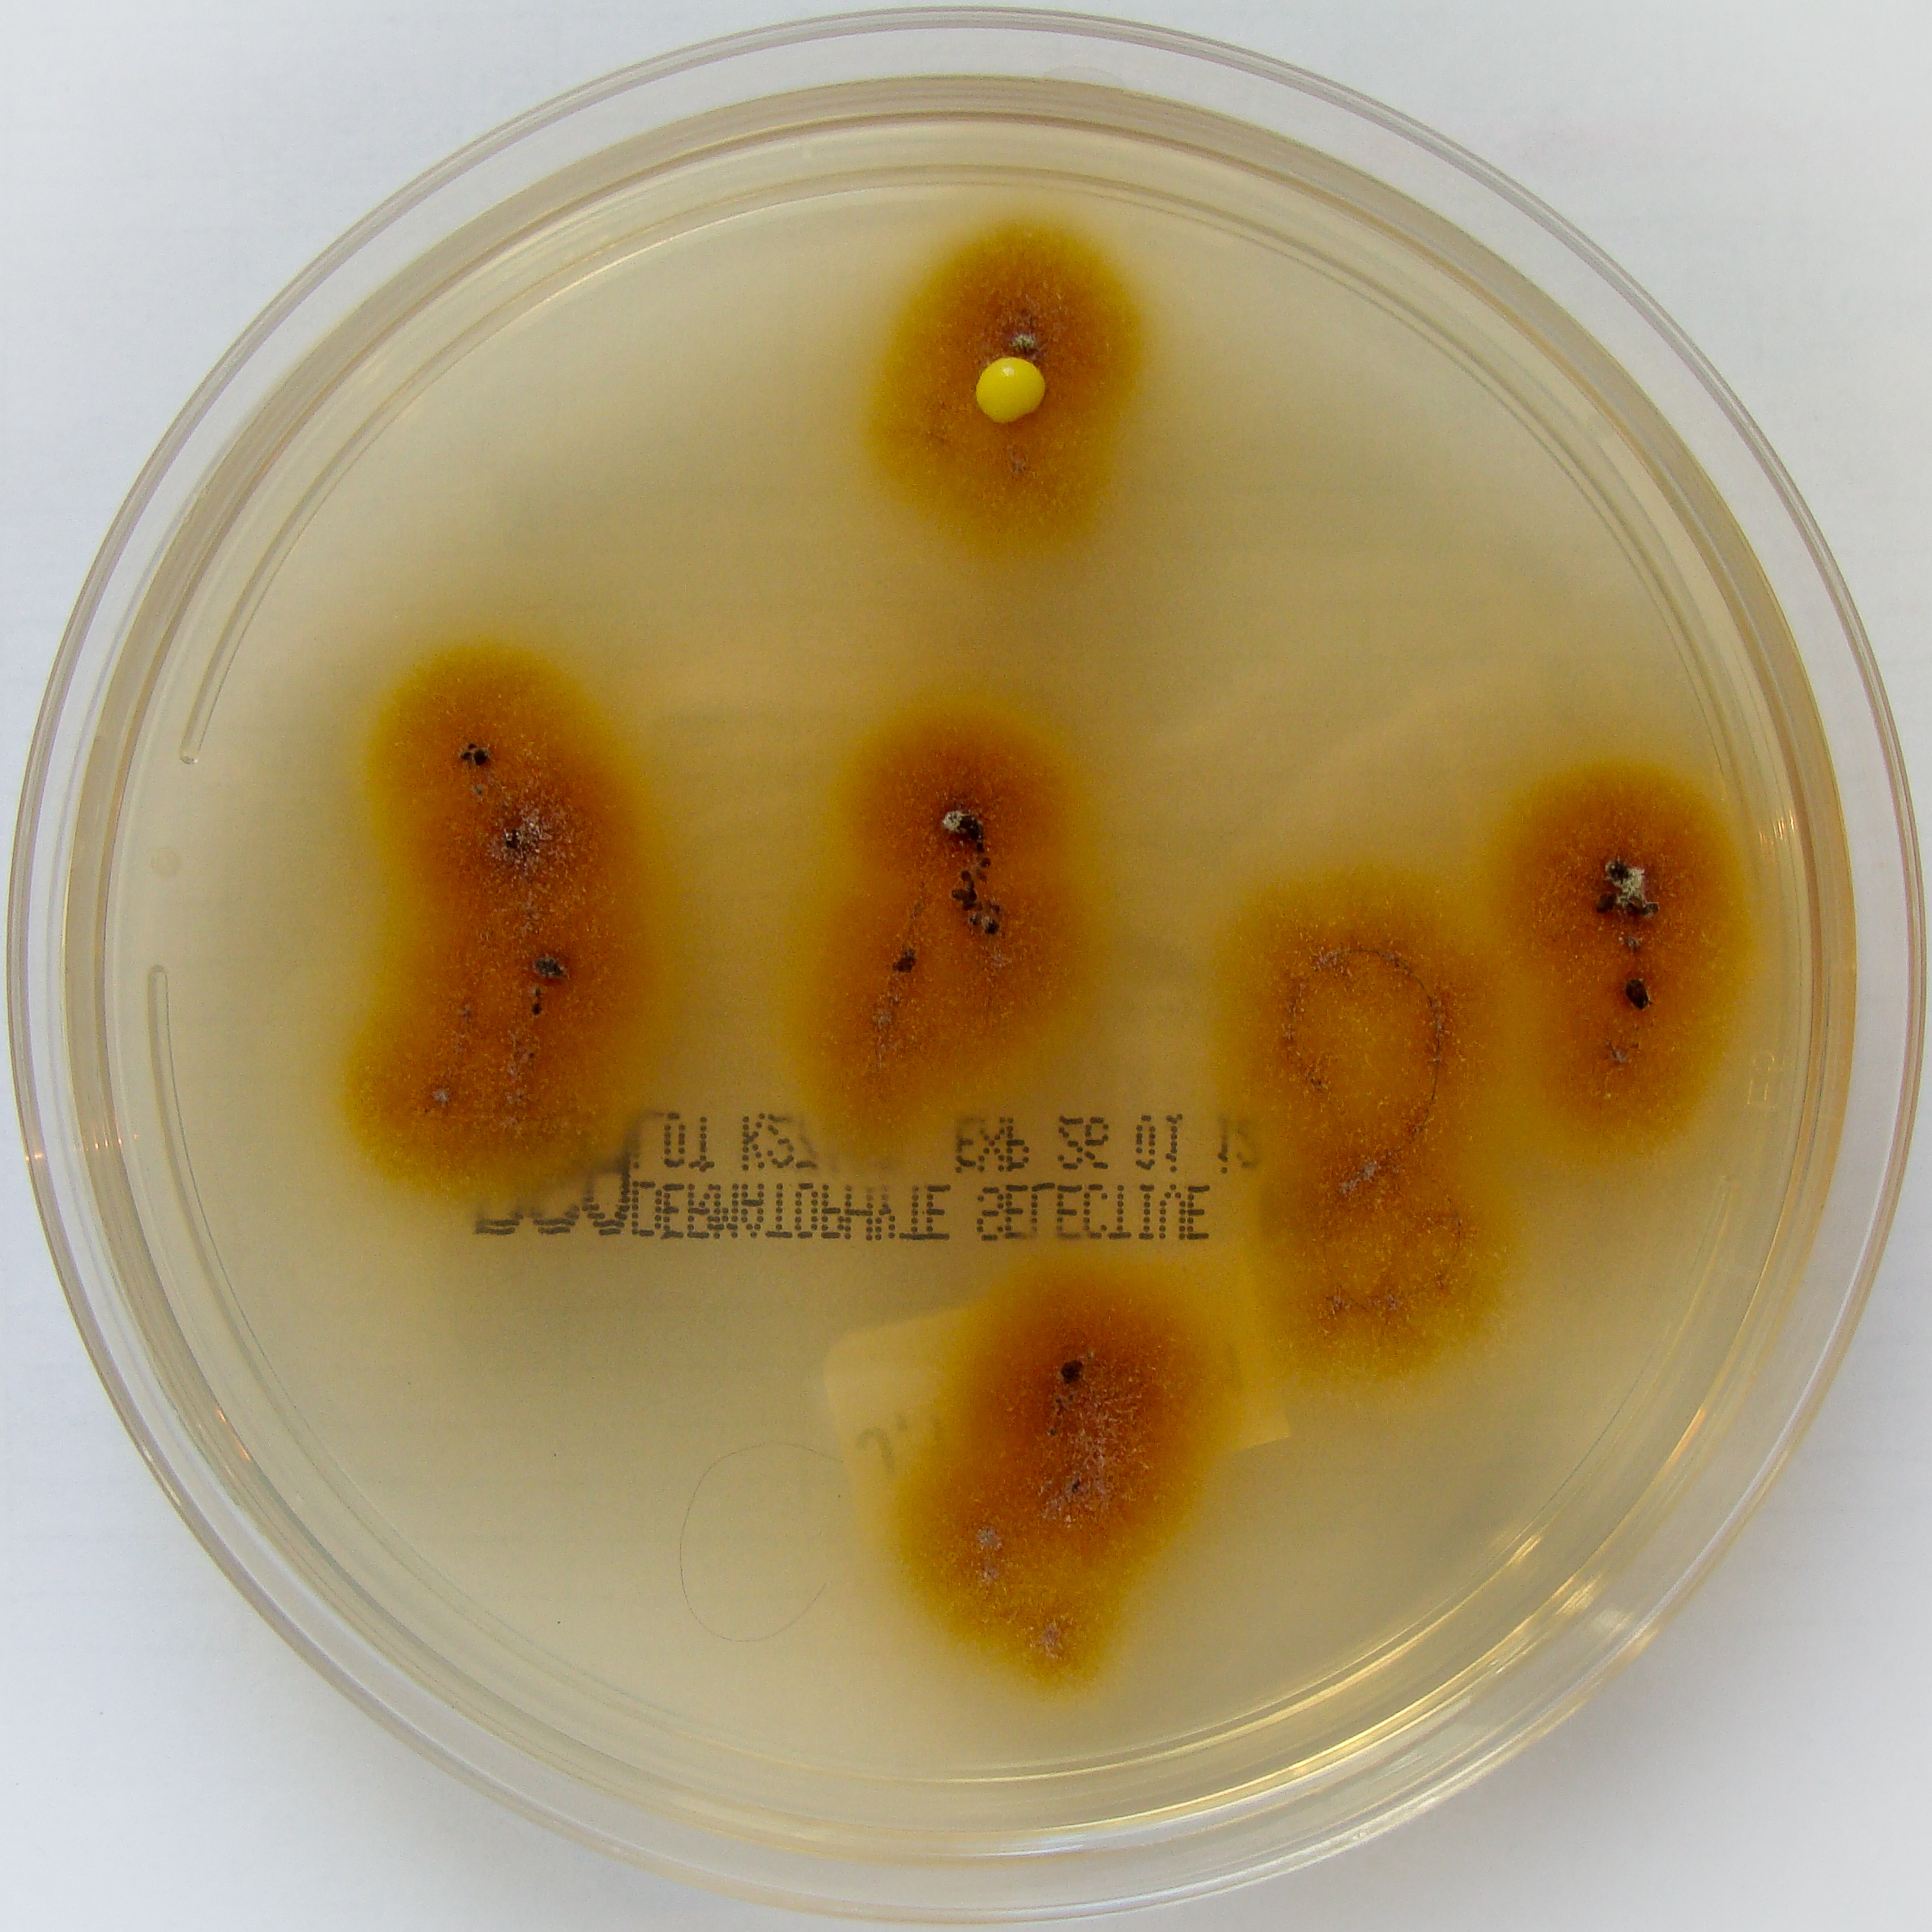Trichophyton: (377, 653, 630, 1139), (846, 720, 1035, 1077), (918, 258, 1127, 534), (1548, 817, 1711, 1090)
